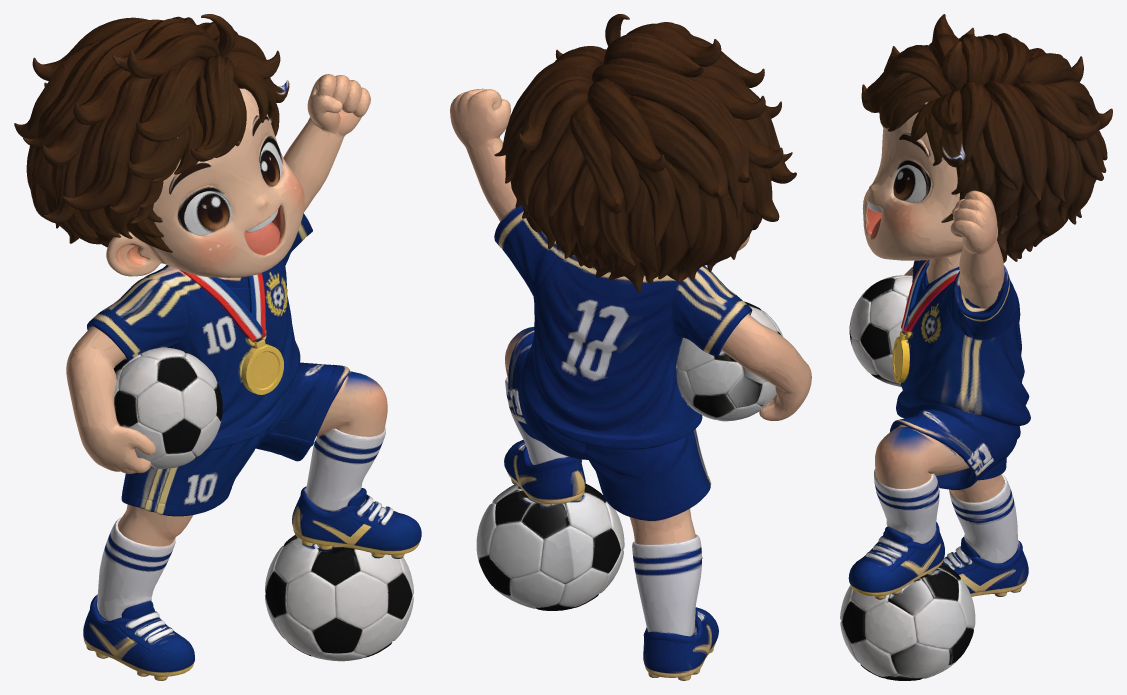
Rendered from avatar.glb.
3 views of the same model, side by side, from view 1: azimuth 30°, elevation 25°; view 2: azimuth 150°, elevation 25°; view 3: azimuth 270°, elevation 25° (orthographic). The views are drawn at different scales.
Parts seen in each view (by area): view 1: output_unwrapped; view 2: output_unwrapped; view 3: output_unwrapped.
Boxes of the visible parts, x1=… form: output_unwrapped: x1=14, y1=14, x2=421, y2=680; output_unwrapped: x1=450, y1=14, x2=811, y2=680; output_unwrapped: x1=840, y1=14, x2=1112, y2=680.
Size of the model in its own units: 1.04 by 1.9 by 0.8152.
Materials: 1 (1 with a texture image).
